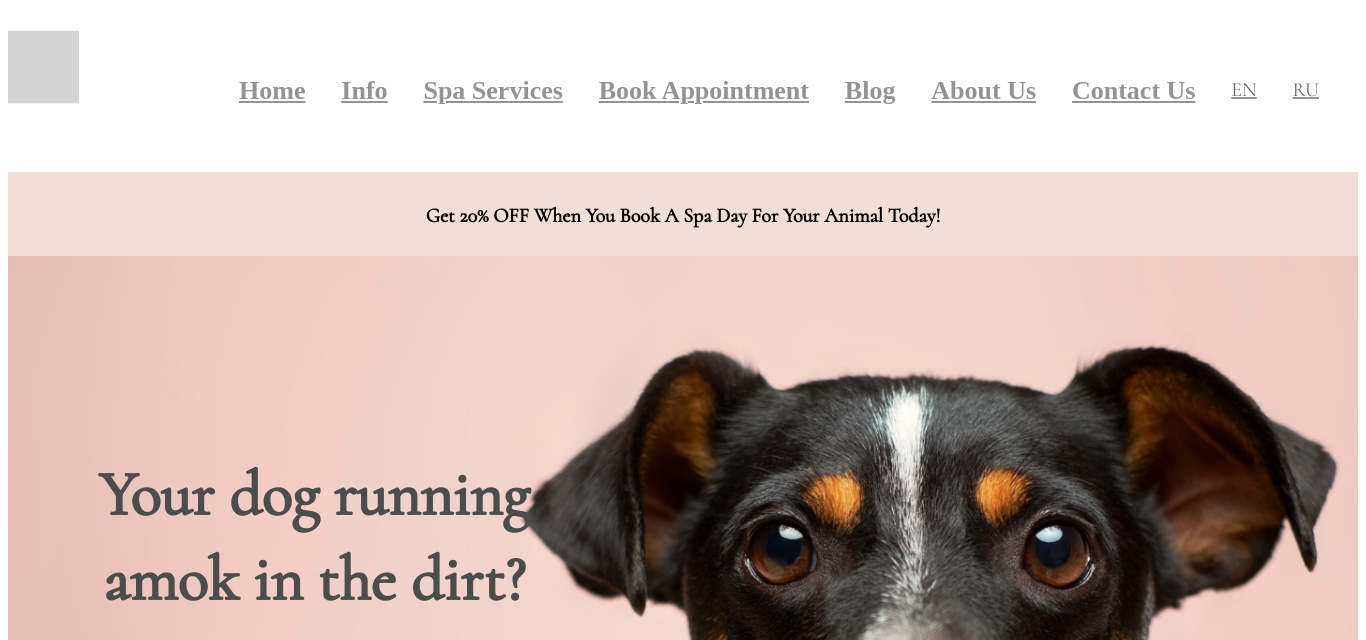
Navigation › should navigate from home page to some others
Click the link "About Us" at [984, 91], box [931, 76, 1036, 105]
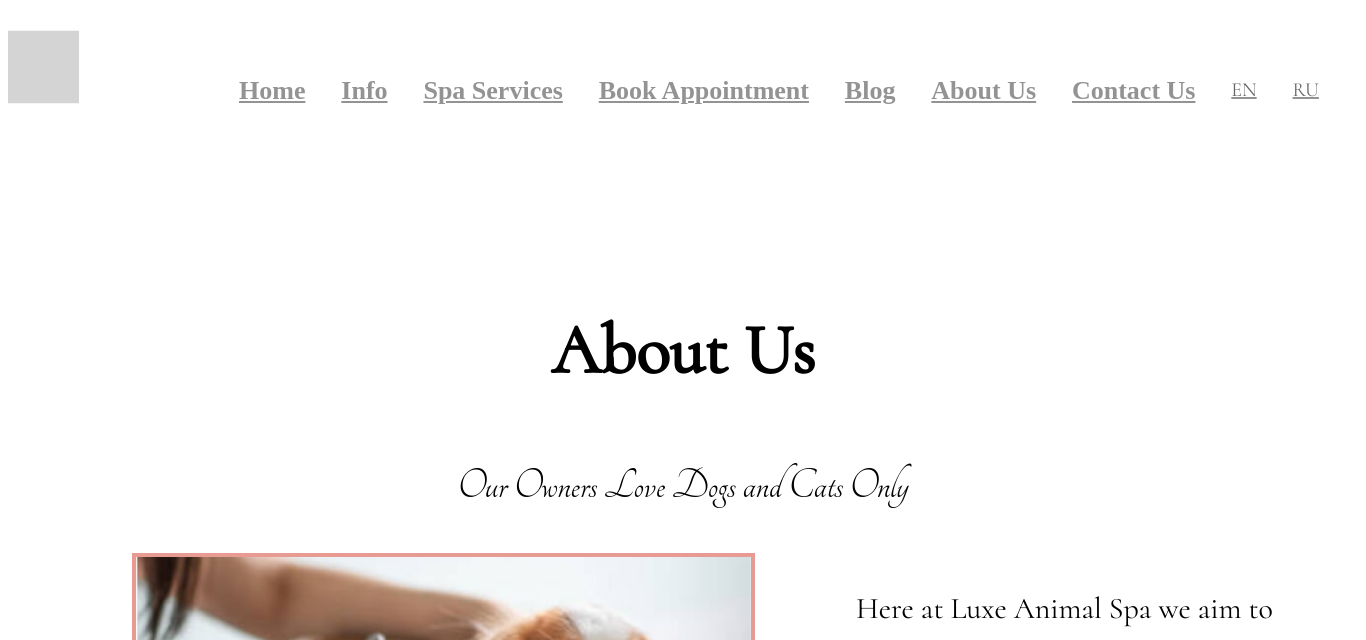
Click the link "Blog" at [871, 91], box [845, 76, 896, 105]
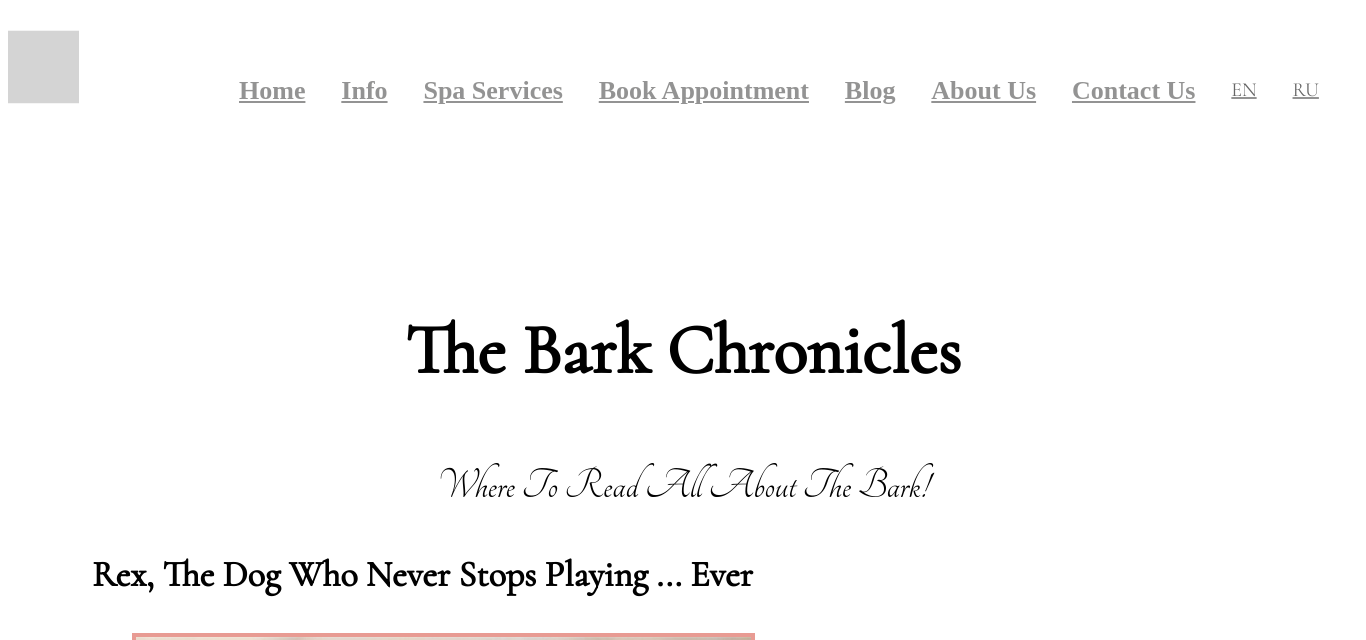
Result: the text "The Bark Chronicles" is shown at [405, 308, 961, 393]
Click the link "Spa Services" at [494, 91], box [424, 76, 563, 105]
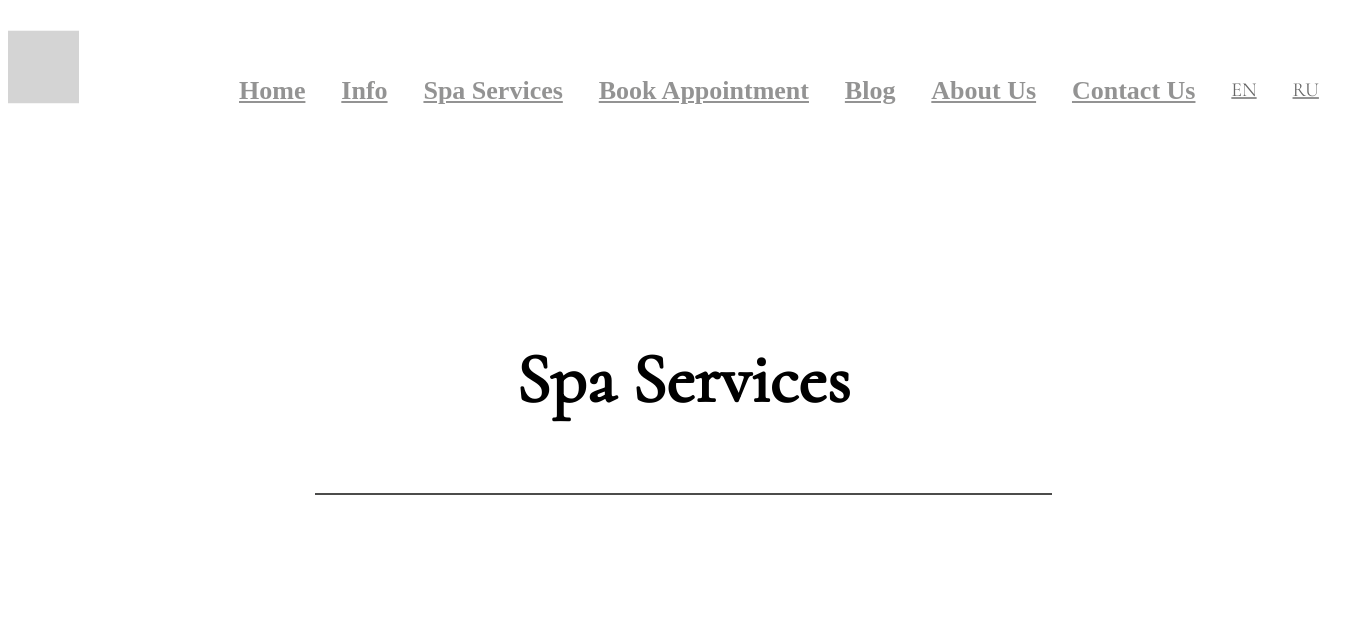
Result: the text "Spa Services" is shown at [516, 337, 850, 422]
